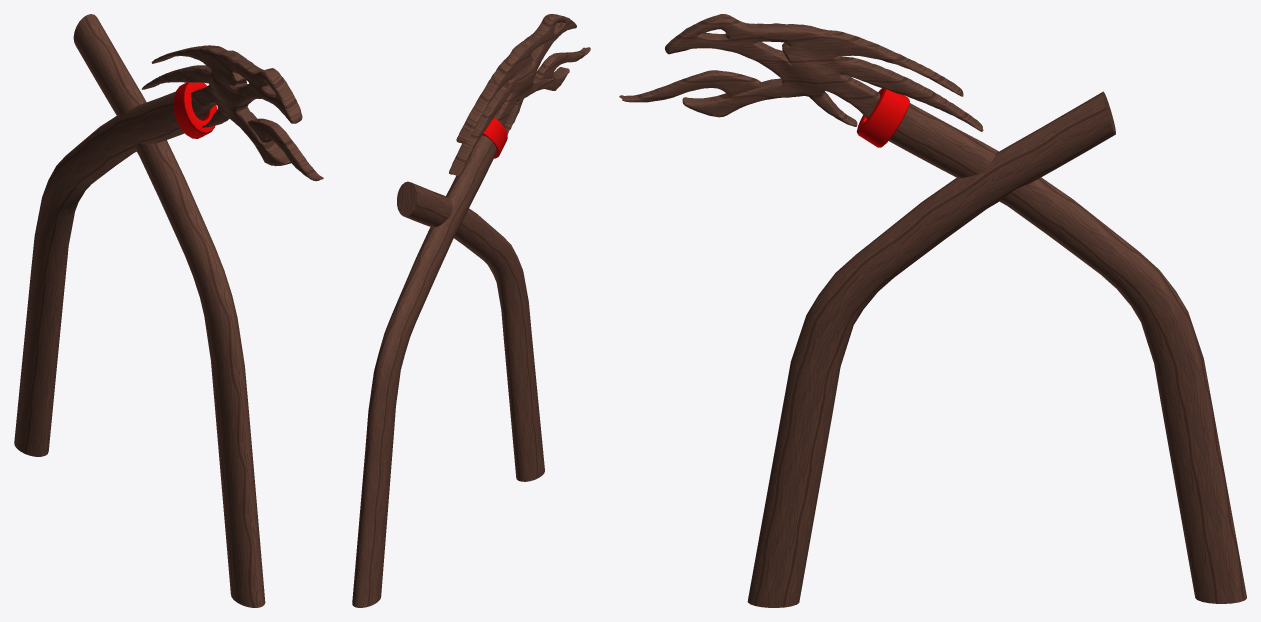
File: marco con un dragon.fbx
The picture shows the model from 3 angles, left to right: view 1: azimuth 30°, elevation 25°; view 2: azimuth 150°, elevation 25°; view 3: azimuth 270°, elevation 25°; orthographic projection. The views are drawn at different scales.
Visible parts, largest first — view 1: Marco_con_un_dragon; view 2: Marco_con_un_dragon; view 3: Marco_con_un_dragon.
Part boxes in pixels (box(x1,y1,x2,y2)): Marco_con_un_dragon: box(14, 14, 323, 607); Marco_con_un_dragon: box(352, 14, 590, 607); Marco_con_un_dragon: box(619, 14, 1246, 607).
Size of the model in its own units: 0.7884 by 11.91 by 11.6.
